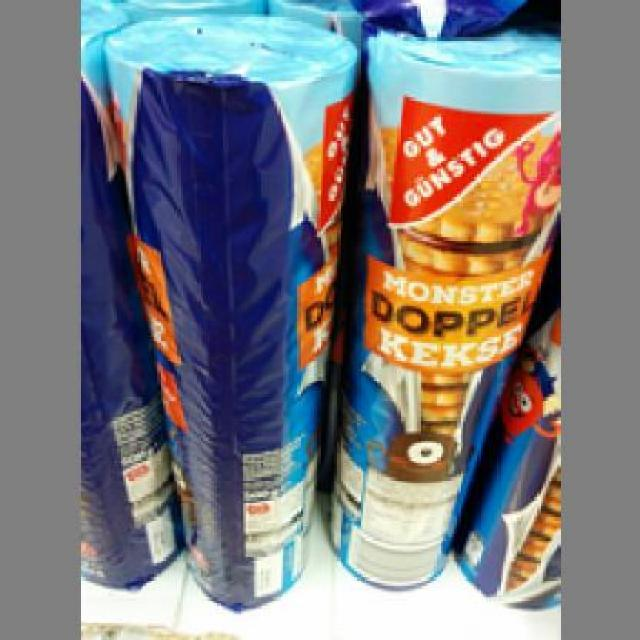Chocolate: (103, 8, 354, 606), (328, 29, 558, 592)
